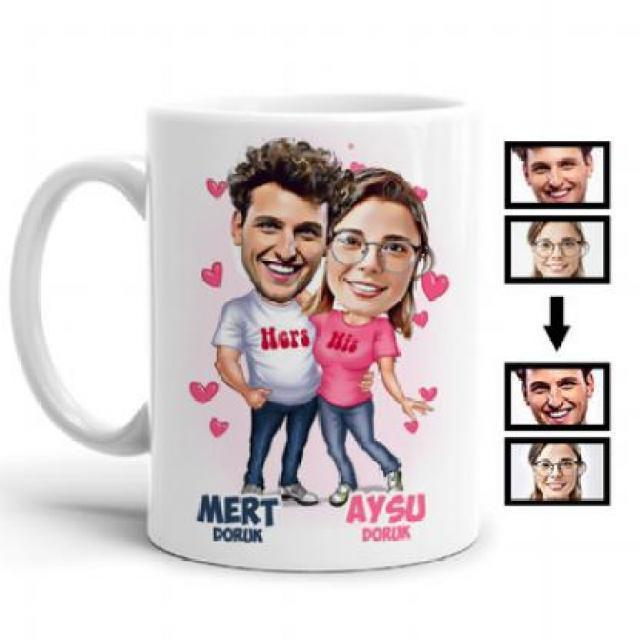taza: (2, 79, 486, 588)
